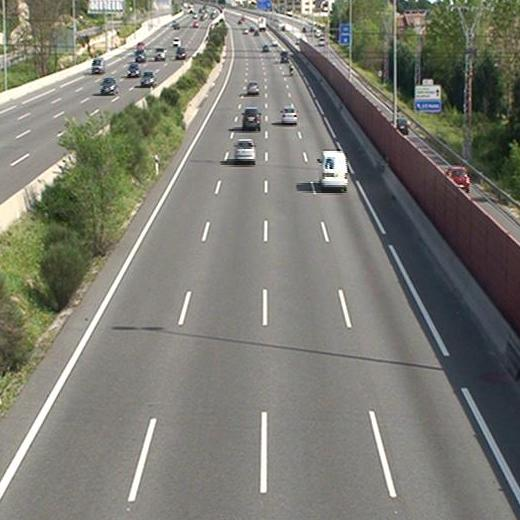car: (235, 139, 256, 162), (243, 107, 260, 129), (281, 106, 299, 124), (244, 81, 259, 95)
motorcycle: (287, 61, 296, 76)
van: (318, 150, 350, 190)
